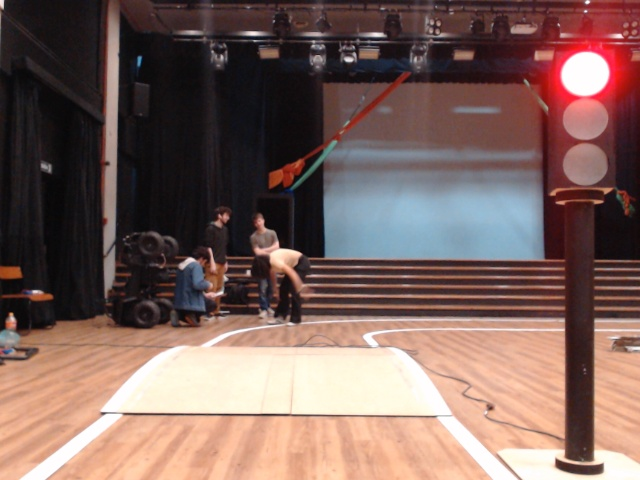SEMAFORO: (531, 36, 633, 218)
